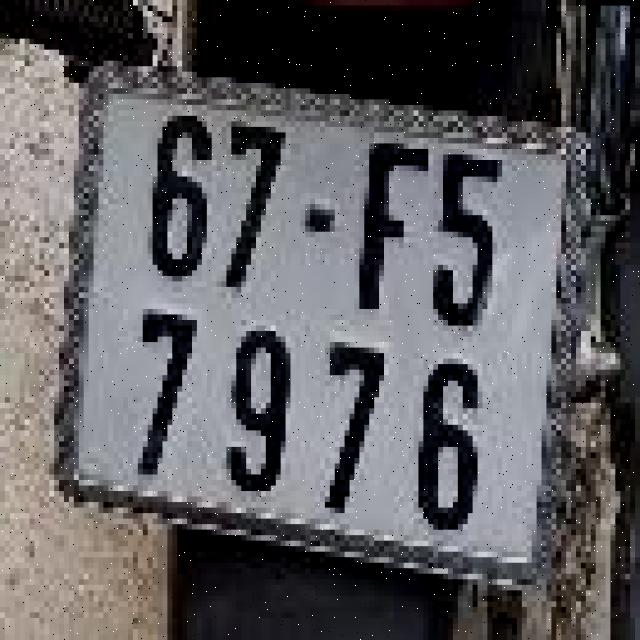5: (433, 144, 527, 348)
6: (138, 108, 216, 284), (418, 348, 478, 540)
7: (219, 113, 298, 301), (310, 328, 379, 516), (120, 298, 194, 469)
9: (209, 312, 298, 505)
F: (345, 130, 433, 306)
